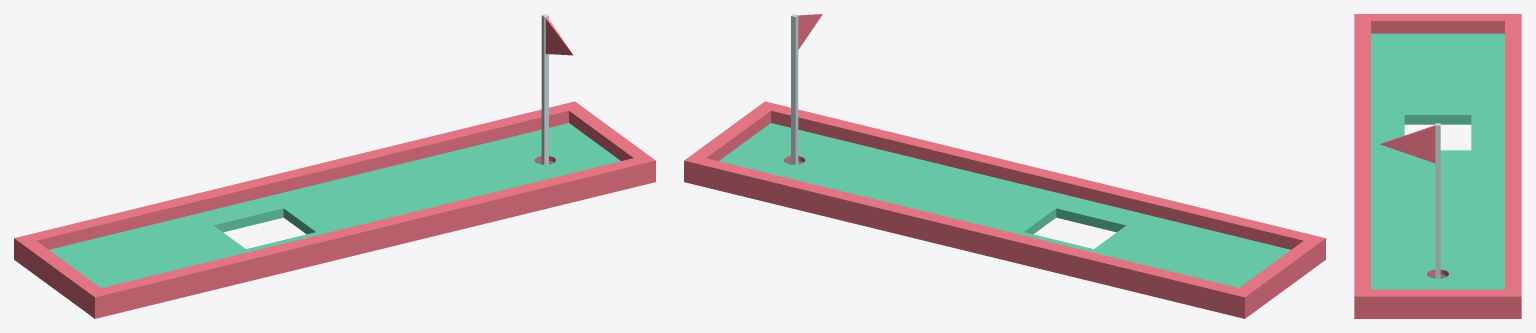
The picture shows the model from 3 angles, left to right: view 1: azimuth 30°, elevation 25°; view 2: azimuth 150°, elevation 25°; view 3: azimuth 270°, elevation 25°; orthographic projection. The views are drawn at different scales.
Visible parts, largest first — view 1: holeSquare; view 2: holeSquare; view 3: holeSquare.
Boxes of the visible parts, bbox=[...] form: holeSquare: bbox=[14, 14, 655, 318]; holeSquare: bbox=[684, 14, 1325, 318]; holeSquare: bbox=[1354, 14, 1521, 318].
Size of the model in its own units: 400 by 105 by 99.99.
